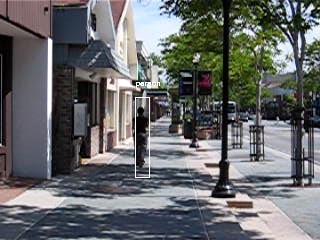person: (132, 107, 151, 168), (131, 107, 150, 168), (133, 107, 152, 168), (132, 106, 151, 167), (132, 108, 151, 169)
target_negative: (155, 32, 260, 99), (210, 147, 266, 208), (228, 1, 269, 61), (185, 171, 208, 233), (249, 140, 284, 173), (318, 194, 319, 227)
